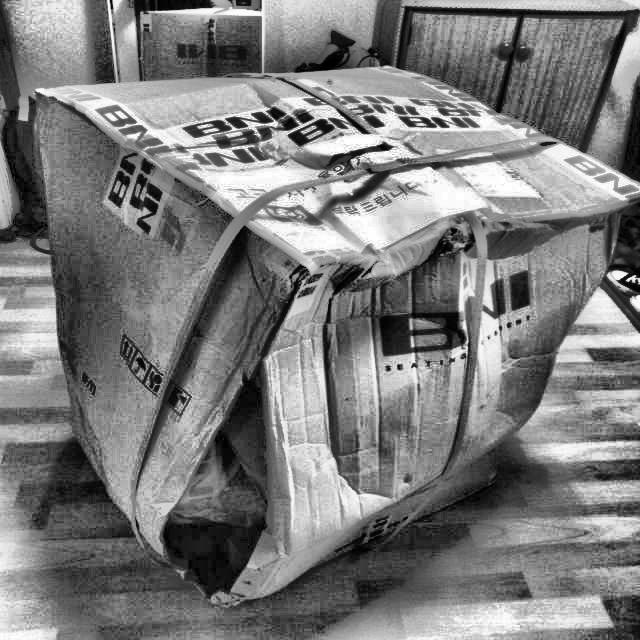box: (23, 49, 639, 628)
hole: (167, 363, 288, 597)
